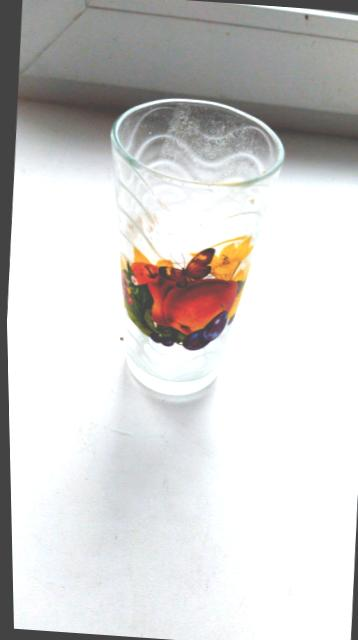Cup: (111, 99, 282, 394)
